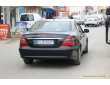License Plates: (35, 37, 55, 44)
